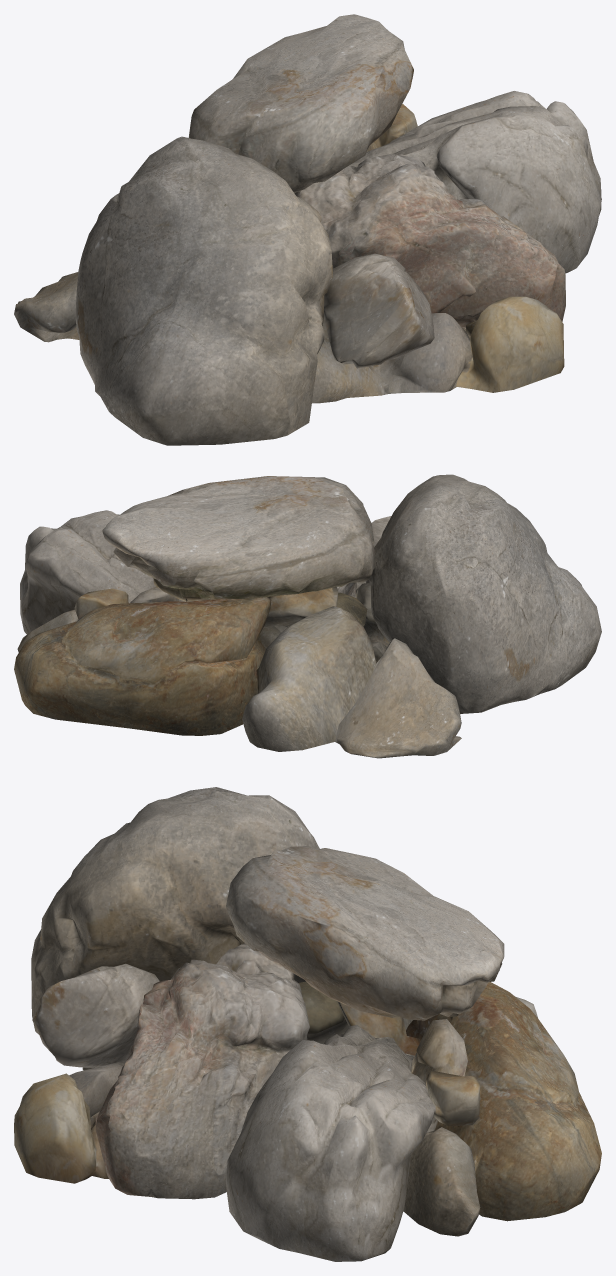
The model's file is SM_xk5mbfv_tier_2.gltf.
The picture shows the model from 3 angles, top to bottom: view 1: azimuth 30°, elevation 25°; view 2: azimuth 150°, elevation 25°; view 3: azimuth 270°, elevation 25°; orthographic projection. The views are drawn at different scales.
Visible parts, largest first — view 1: SM_xk5mbfv; view 2: SM_xk5mbfv; view 3: SM_xk5mbfv.
Boxes of the visible parts, left/top/right/bottom form: SM_xk5mbfv: left=14, top=14, right=601, bottom=445; SM_xk5mbfv: left=14, top=474, right=601, bottom=758; SM_xk5mbfv: left=14, top=787, right=601, bottom=1261.
Bounding box in the file's own units: 1.28 × 0.4773 × 1.06.
Materials: 1 (1 with a texture image).
